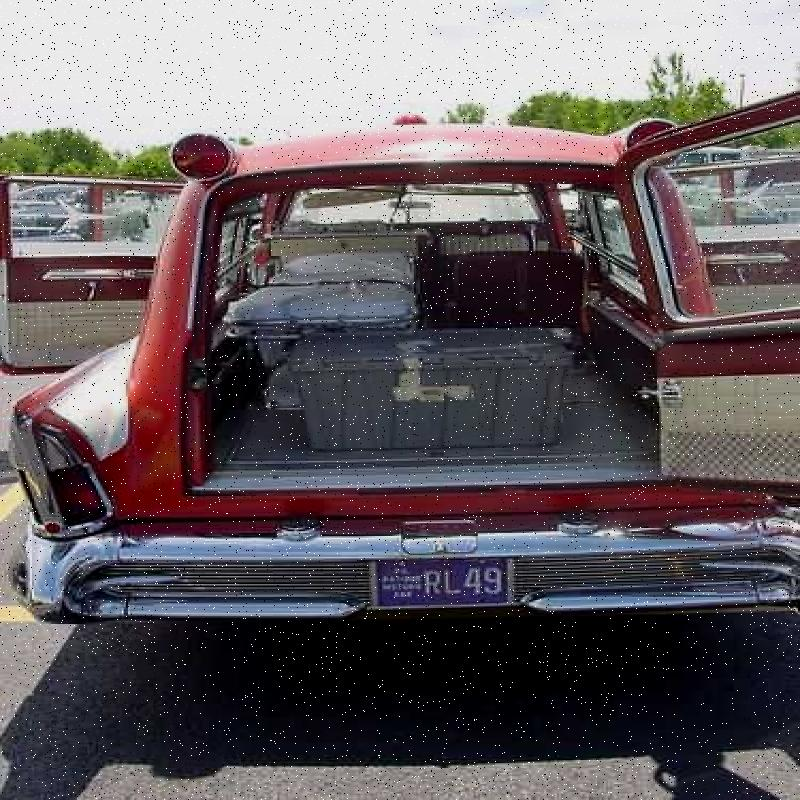AmbulanceSiren: (159, 126, 267, 204)
